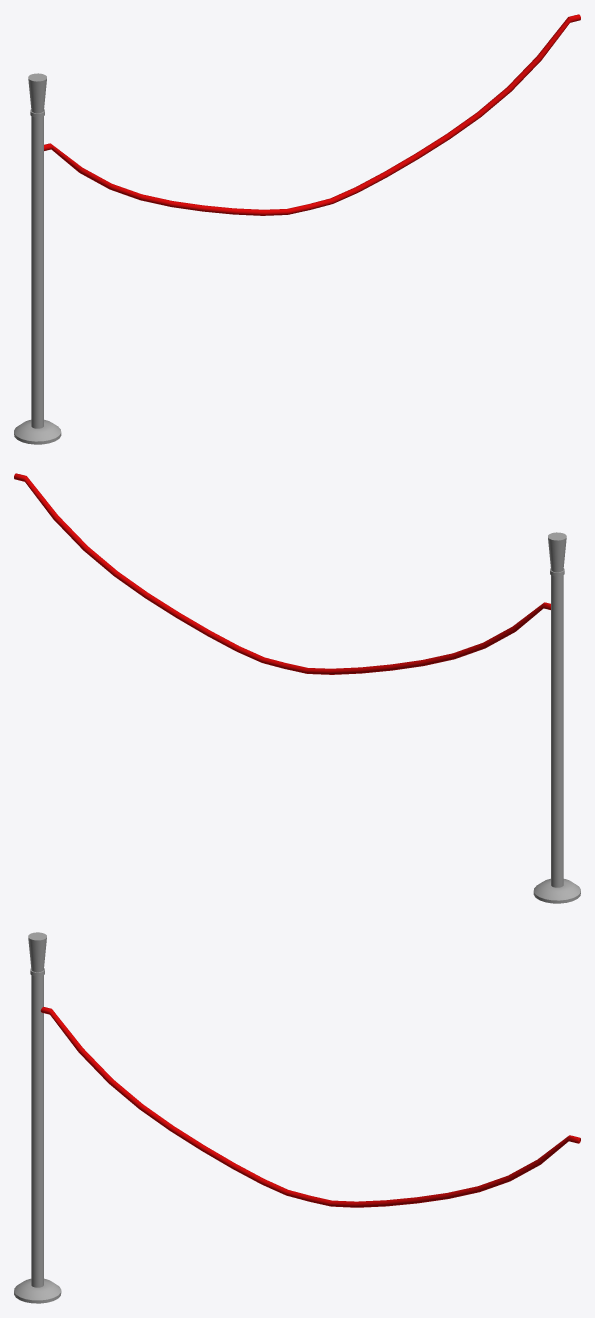
Rendered from WW_RopeBarrier_02_Env.fbx.
3 renders of one model, top to bottom at view 1: azimuth 30°, elevation 25°; view 2: azimuth 150°, elevation 25°; view 3: azimuth 330°, elevation 25°, orthographic.
Parts seen in each view (by area): view 1: RopebarrierStand, Rope; view 2: RopebarrierStand, Rope; view 3: RopebarrierStand, Rope.
Boxes of the visible parts, bbox=[...] form: RopebarrierStand: bbox=[14, 73, 61, 444]; Rope: bbox=[44, 14, 580, 215]; RopebarrierStand: bbox=[533, 532, 580, 903]; Rope: bbox=[14, 473, 550, 674]; RopebarrierStand: bbox=[14, 932, 61, 1303]; Rope: bbox=[40, 1007, 580, 1207].
Bounding box in the file's own units: 206 × 125 × 15.12.
